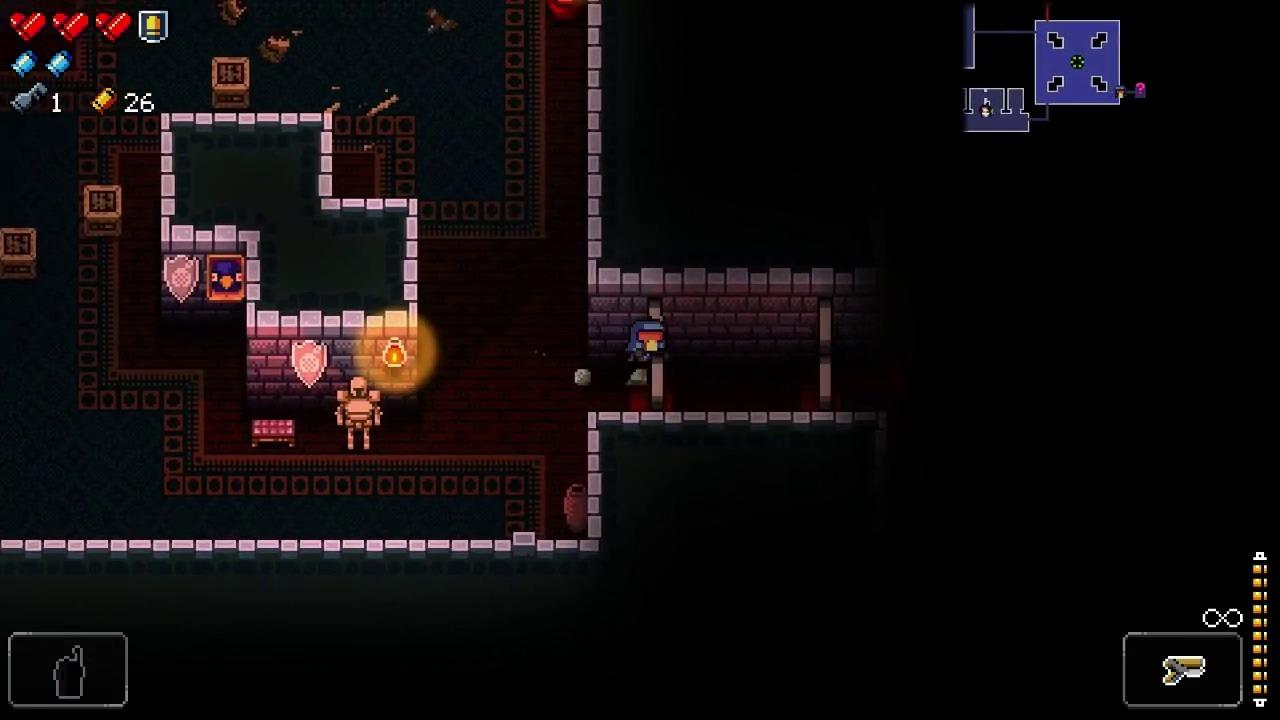player: (626, 318, 668, 364)
unlocked_door: (646, 294, 667, 411), (818, 298, 833, 413)
